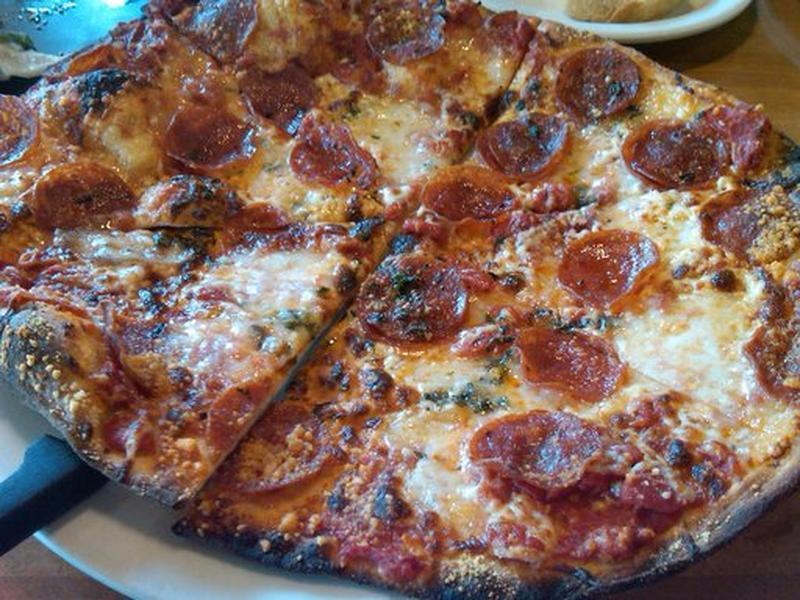pizza: (18, 21, 795, 588)
